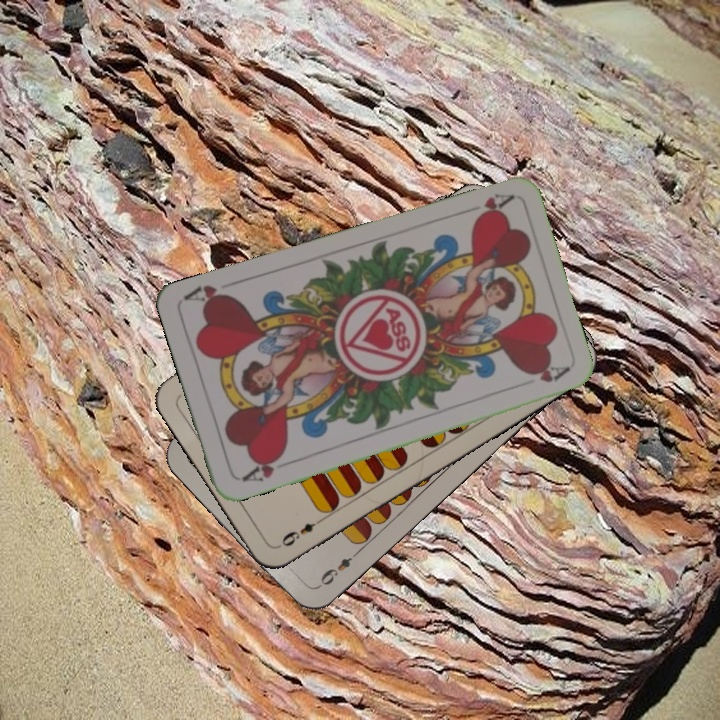E9: (313, 547, 361, 591), (274, 513, 327, 551)
HA: (238, 450, 293, 485), (470, 189, 515, 224)
